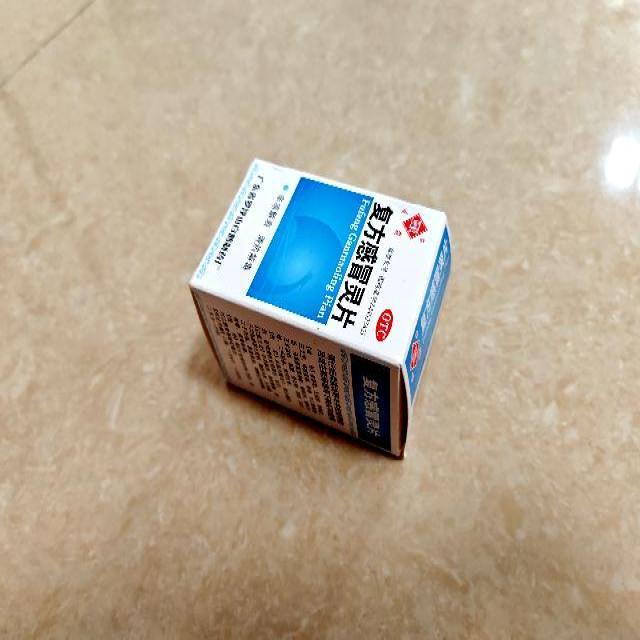box: (188, 156, 454, 460)
